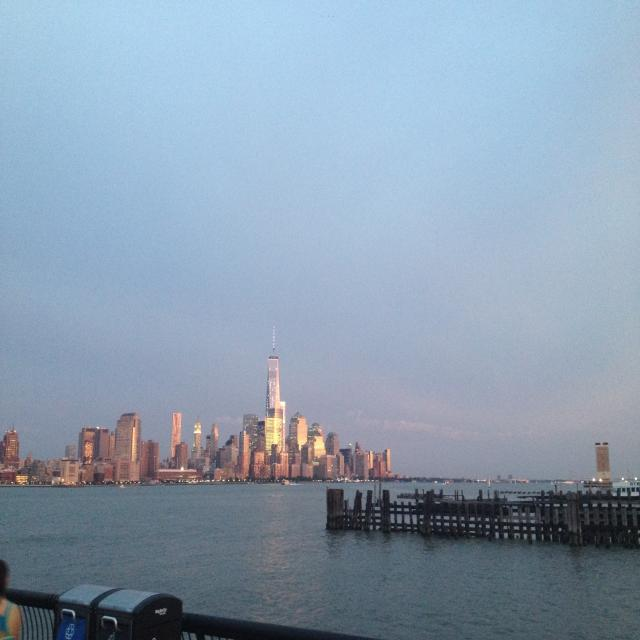WTC: (266, 323, 282, 410)
